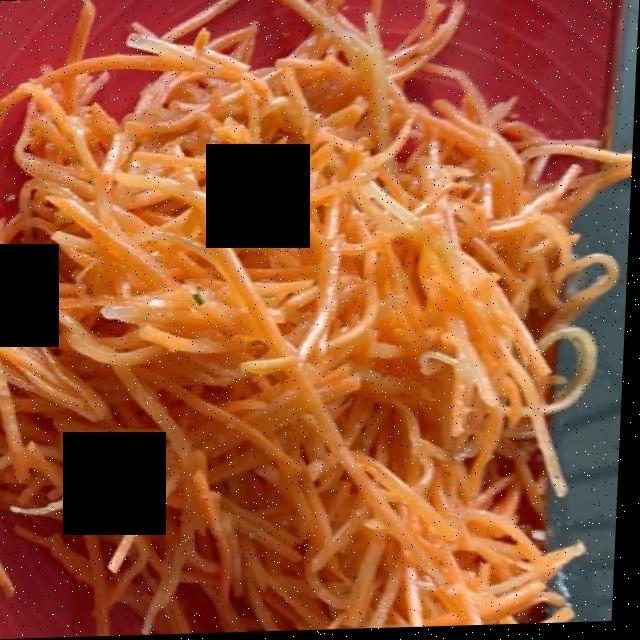carrot: (0, 12, 602, 626)
